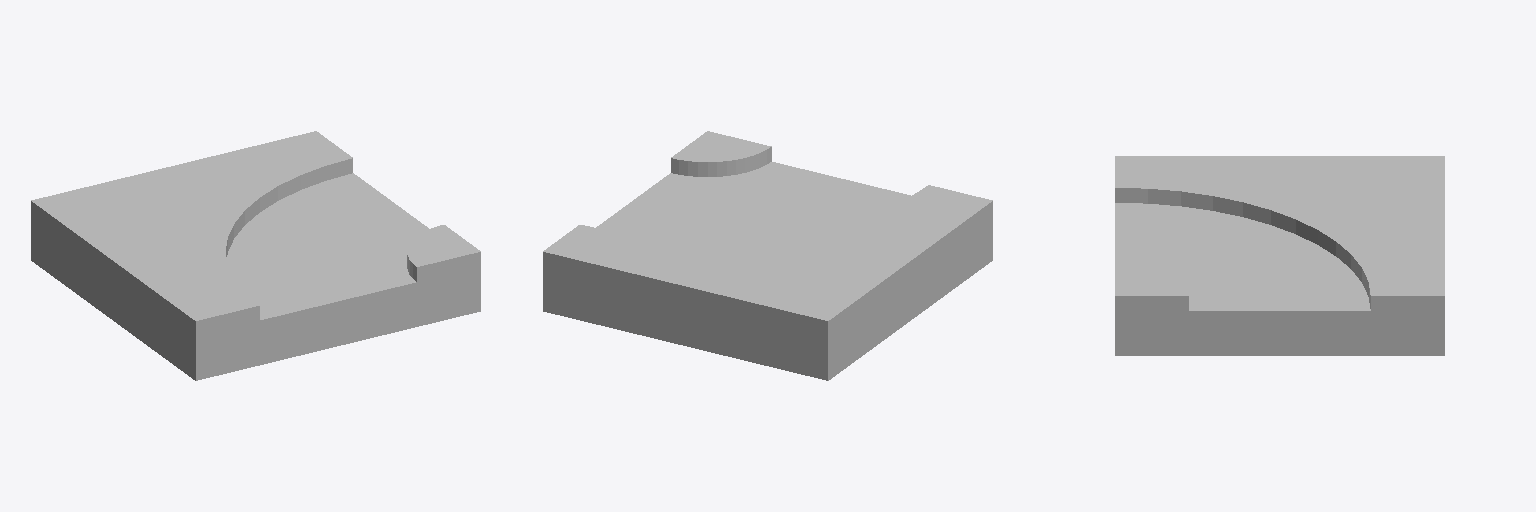
The model's file is snow_tile_cornerRound.obj.
The picture shows the model from 3 angles: view 1: azimuth 30°, elevation 25°; view 2: azimuth 150°, elevation 25°; view 3: azimuth 270°, elevation 25°; orthographic projection.
Parts seen in each view (by area): view 1: snow_tile_cornerRound; view 2: snow_tile_cornerRound; view 3: snow_tile_cornerRound.
Part boxes in pixels (left/top/right/bottom): snow_tile_cornerRound: left=31, top=131, right=480, bottom=380; snow_tile_cornerRound: left=543, top=131, right=992, bottom=380; snow_tile_cornerRound: left=1115, top=156, right=1444, bottom=355.
Size of the model in its own units: 1 by 0.2 by 1.